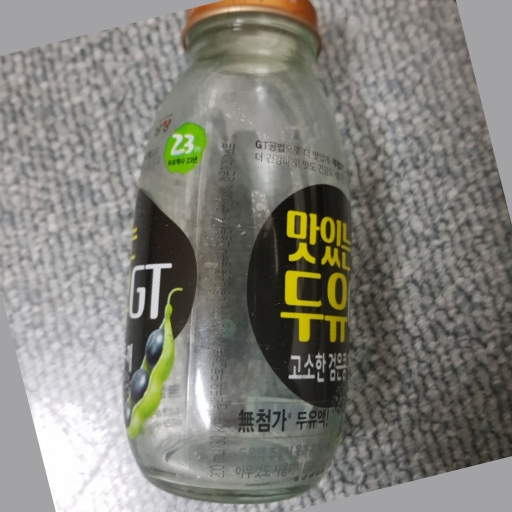Glass_4: (123, 1, 352, 497)
